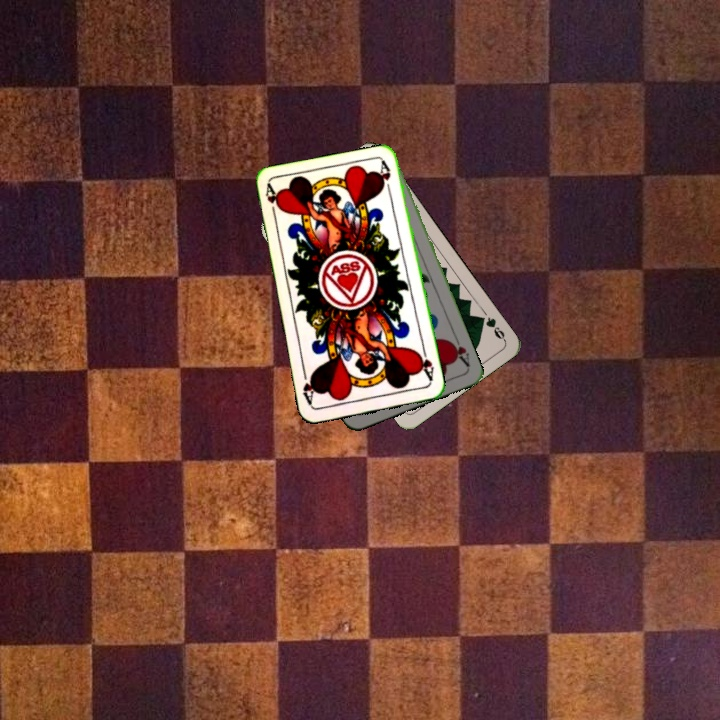G9: (474, 312, 508, 343)
HA: (445, 331, 472, 370), (261, 181, 284, 222), (414, 344, 436, 384)
